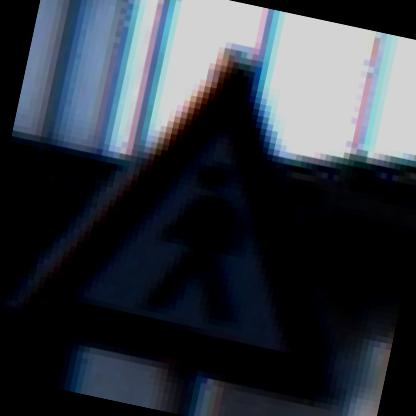crosswalk: (8, 1, 386, 396)
